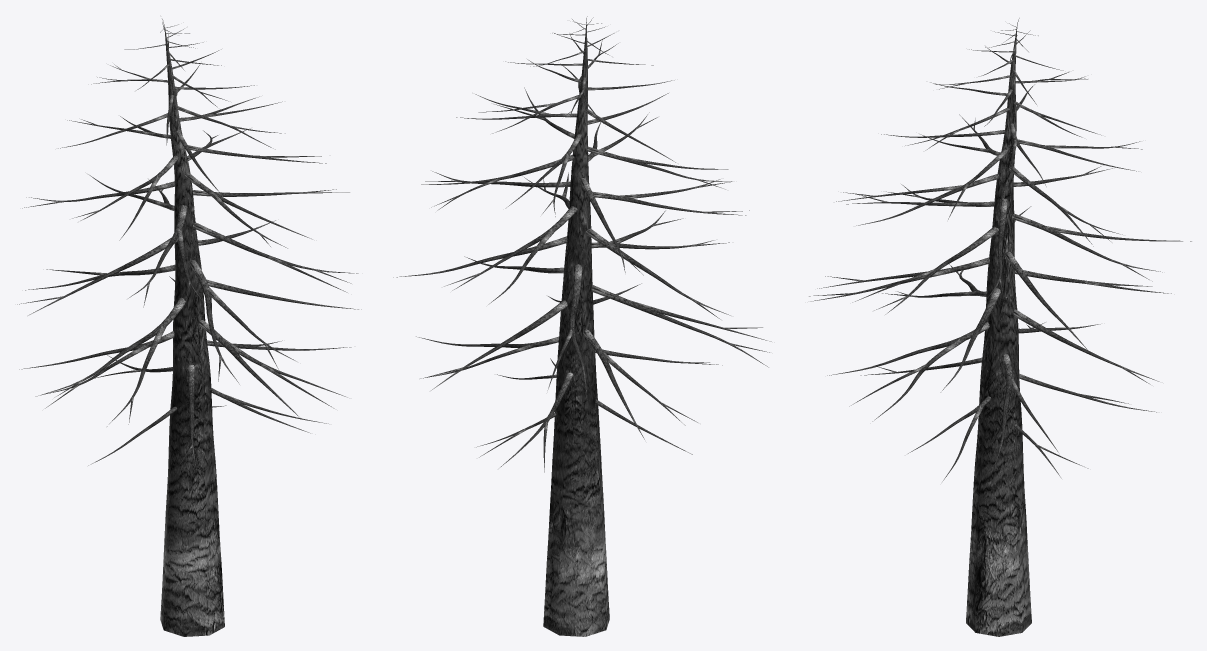
File: tree3.fbx
The picture shows the model from 3 angles, left to right: view 1: azimuth 30°, elevation 25°; view 2: azimuth 150°, elevation 25°; view 3: azimuth 270°, elevation 25°; orthographic projection. The views are drawn at different scales.
Parts seen in each view (by area): view 1: tree; view 2: tree; view 3: tree.
Boxes of the visible parts, x1,y1,x2,y2 form: tree: (17,19,361,636); tree: (393,16,771,636); tree: (809,18,1191,636).
Size of the model in its own units: 575 by 986 by 580.
1 material, 1 textured.
